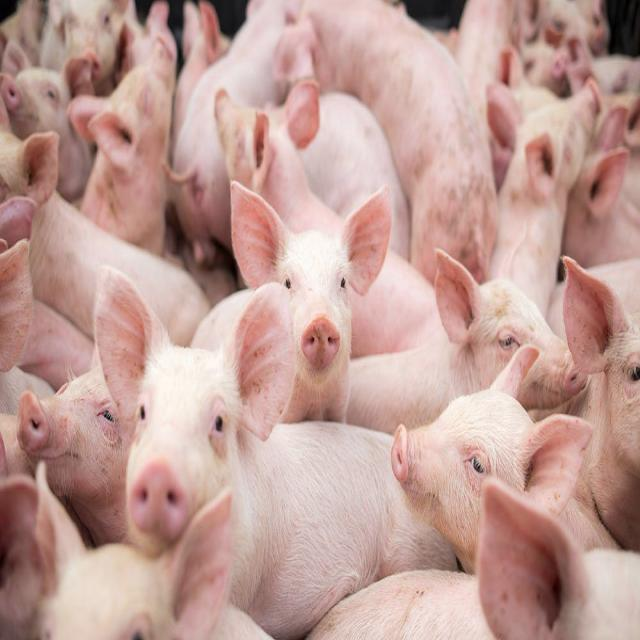pig: (120, 286, 456, 639), (302, 0, 497, 278), (313, 480, 640, 639), (392, 346, 616, 572), (192, 182, 392, 429), (1, 126, 211, 343), (348, 251, 586, 432), (1, 470, 232, 639), (488, 80, 600, 313), (1, 350, 135, 539), (68, 31, 175, 254), (563, 257, 640, 549), (215, 79, 340, 229), (1, 41, 100, 201)
